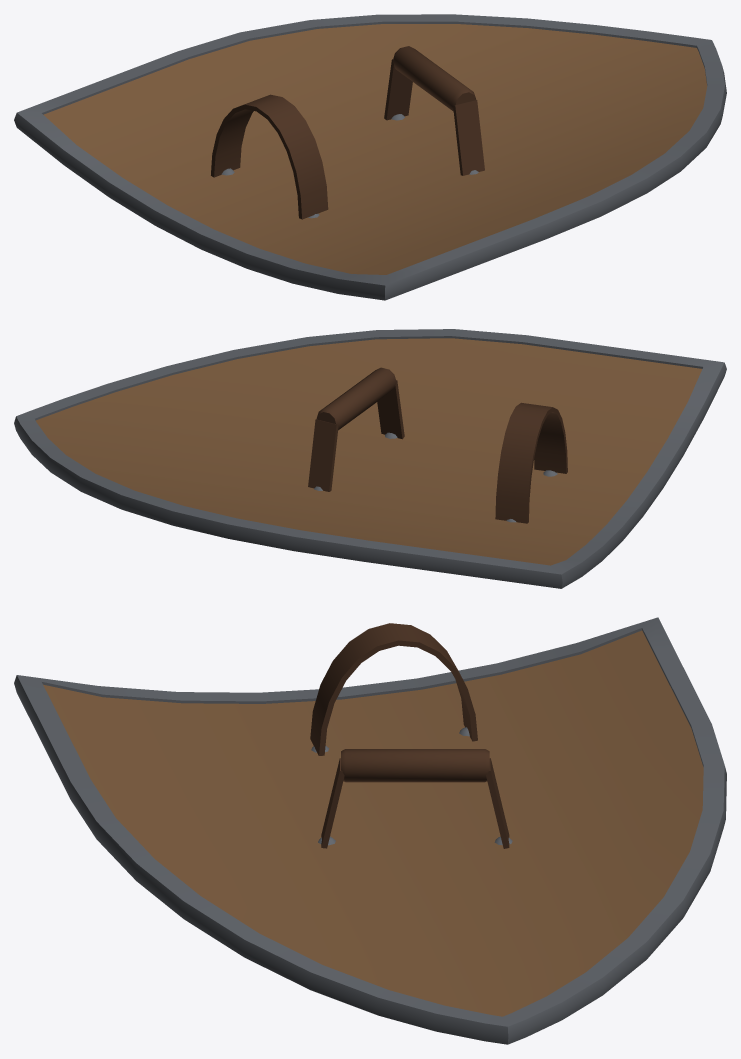
The model's file is HeaterShield.fbx.
3 views of the same model, one above another, from view 1: azimuth 30°, elevation 25°; view 2: azimuth 150°, elevation 25°; view 3: azimuth 270°, elevation 25° (orthographic). The views are drawn at different scales.
Visible parts, largest first — view 1: Board, Rim, ArmStrap, HandStraps, Handle; view 2: Board, Rim, ArmStrap, HandStraps, Handle; view 3: Board, Rim, ArmStrap, Handle, HandStraps.
Part boxes in pixels (x1,y1,x2,y2): Board: [43, 24, 707, 274]; Rim: [14, 14, 726, 300]; ArmStrap: [211, 94, 328, 219]; HandStraps: [384, 59, 484, 175]; Handle: [393, 46, 475, 111]; Board: [36, 338, 702, 565]; Rim: [14, 329, 726, 588]; ArmStrap: [495, 402, 567, 523]; HandStraps: [308, 380, 404, 491]; Handle: [316, 367, 396, 430]; Board: [43, 630, 703, 1016]; Rim: [14, 617, 726, 1044]; ArmStrap: [310, 623, 477, 755]; Handle: [341, 749, 489, 782]; HandStraps: [321, 758, 509, 848].
Bounding box in the file's own units: 0.7522 × 0.6132 × 0.1232.
